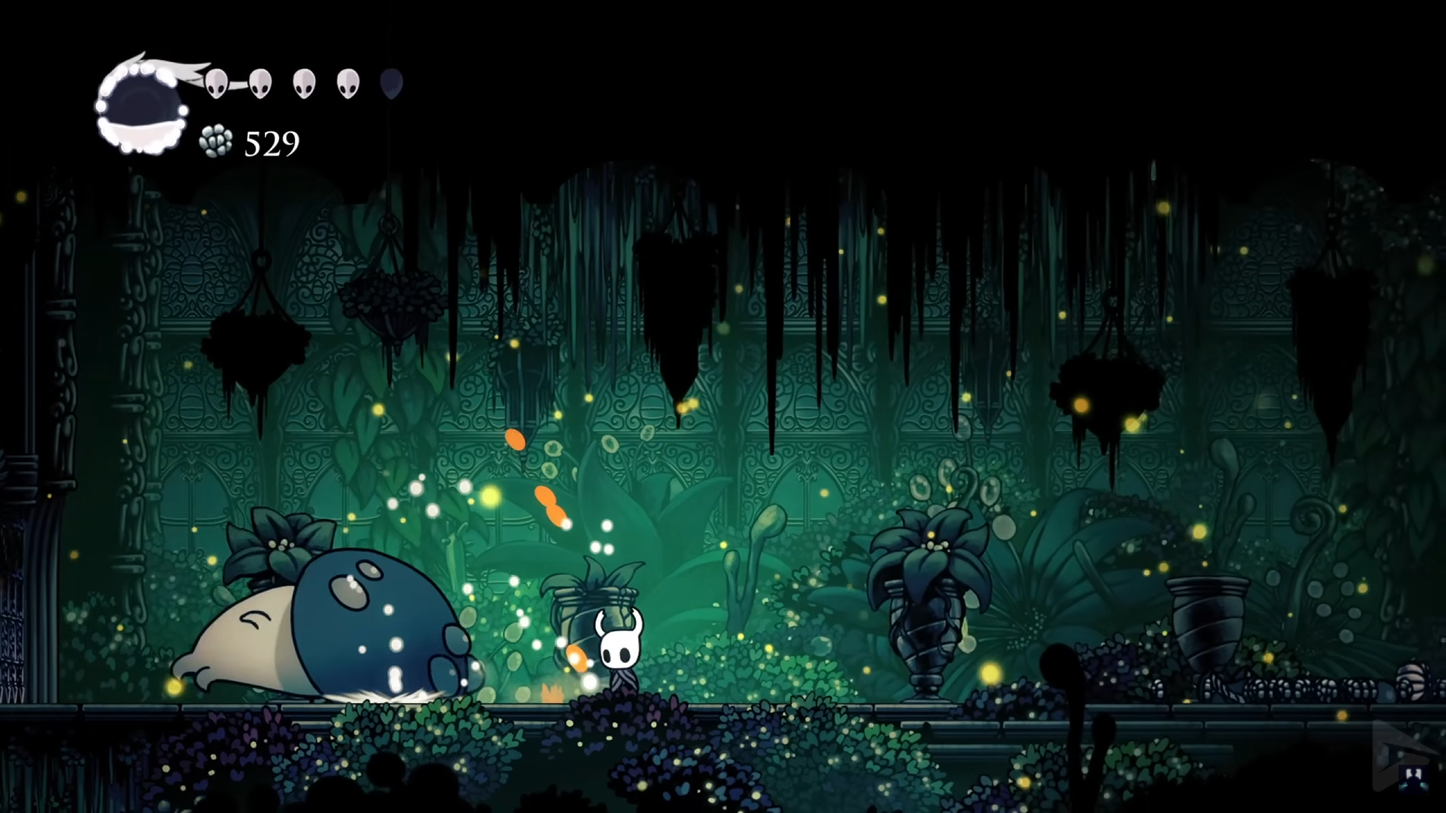HK: (584, 599, 650, 701)
